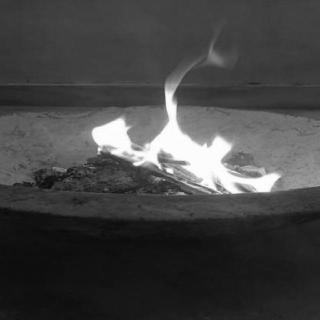Fire: (82, 48, 290, 198)
